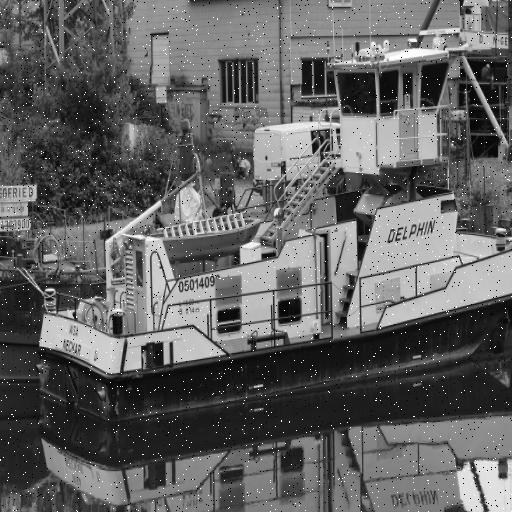tugboat: (33, 21, 512, 443)
